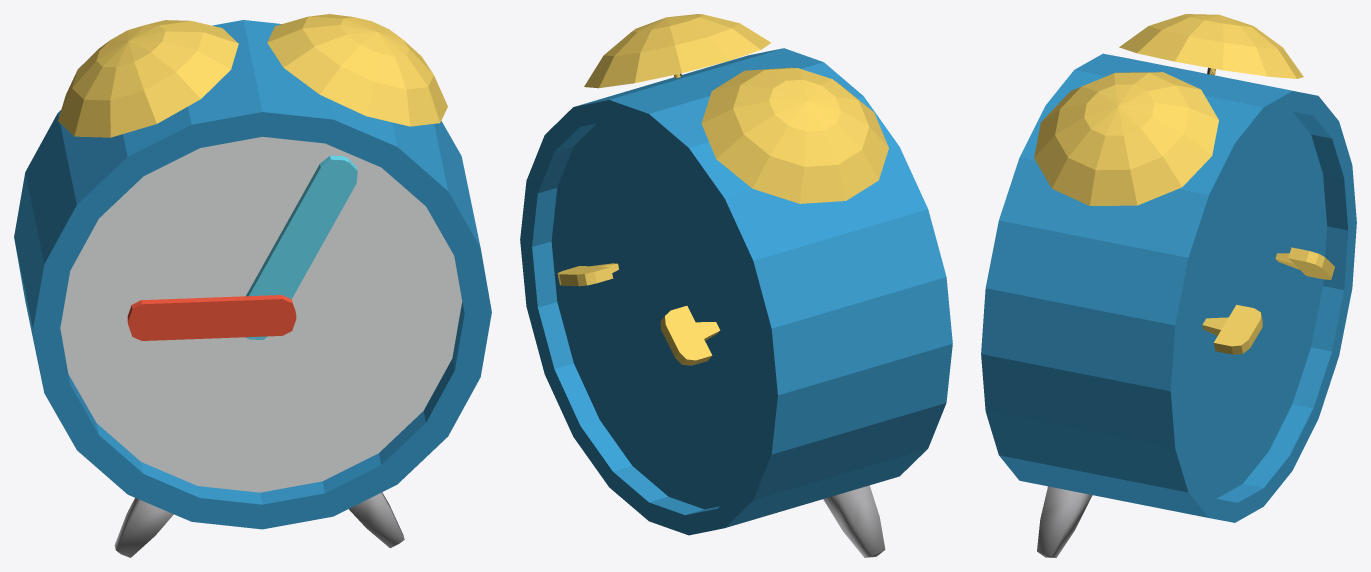
The model's file is 1-alarm.glb.
3 renders of one model, left to right at view 1: azimuth 30°, elevation 25°; view 2: azimuth 150°, elevation 25°; view 3: azimuth 270°, elevation 25°, orthographic. The views are drawn at different scales.
Visible parts, largest first — view 1: clock.001; view 2: clock.001; view 3: clock.001.
Boxes of the visible parts, box(x1,y1,x2,y2) form: clock.001: box(14, 14, 491, 557); clock.001: box(520, 14, 952, 557); clock.001: box(981, 14, 1356, 557).
Size of the model in its own units: 9.63 by 10.23 by 7.42.
Materials: 1 (1 with a texture image).
